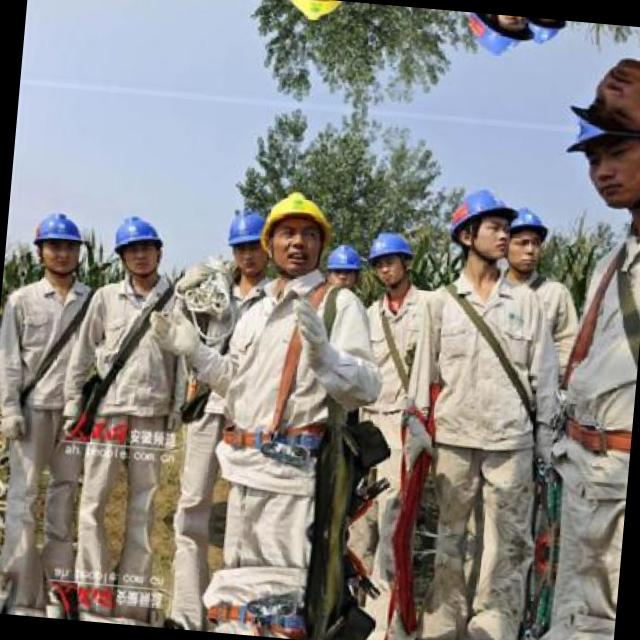helmet: (248, 184, 330, 281), (441, 178, 522, 274), (558, 127, 640, 213), (565, 47, 640, 133), (23, 202, 92, 284), (104, 207, 169, 286), (217, 200, 279, 279), (494, 198, 554, 274), (459, 12, 538, 64), (360, 224, 418, 292), (321, 240, 366, 290), (512, 16, 570, 52), (269, 0, 348, 24)
